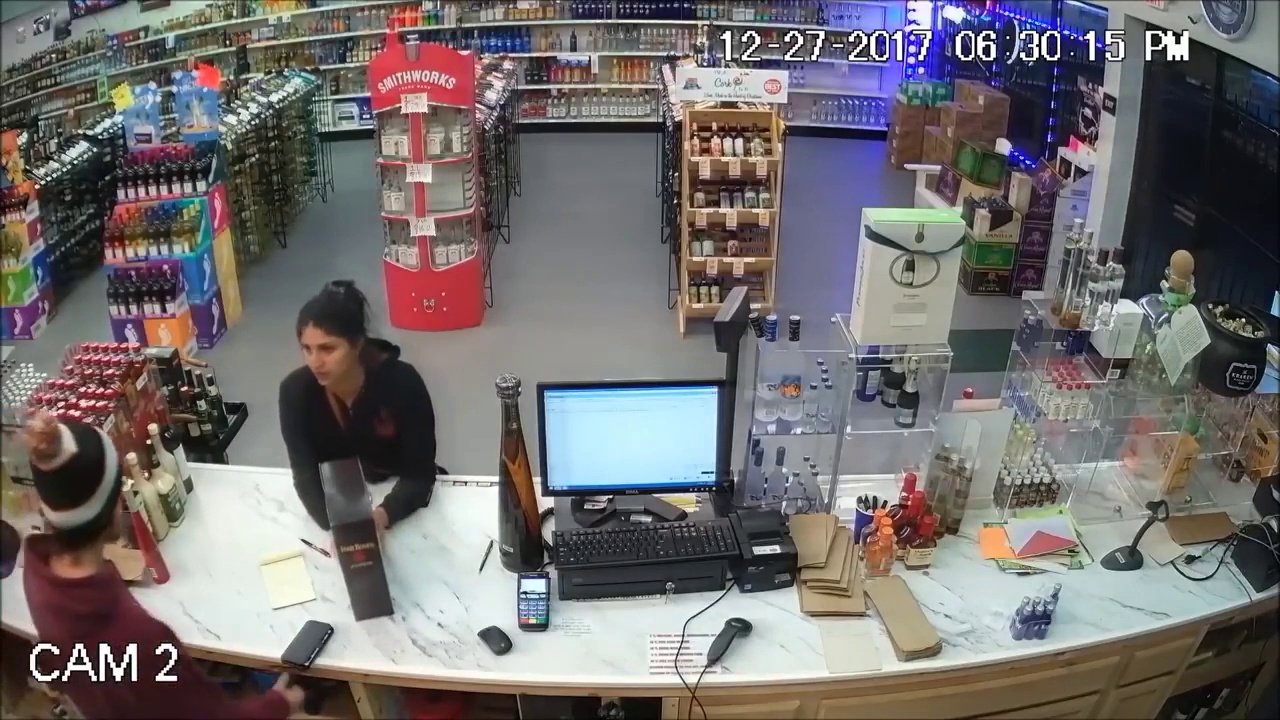face: (297, 326, 356, 387)
